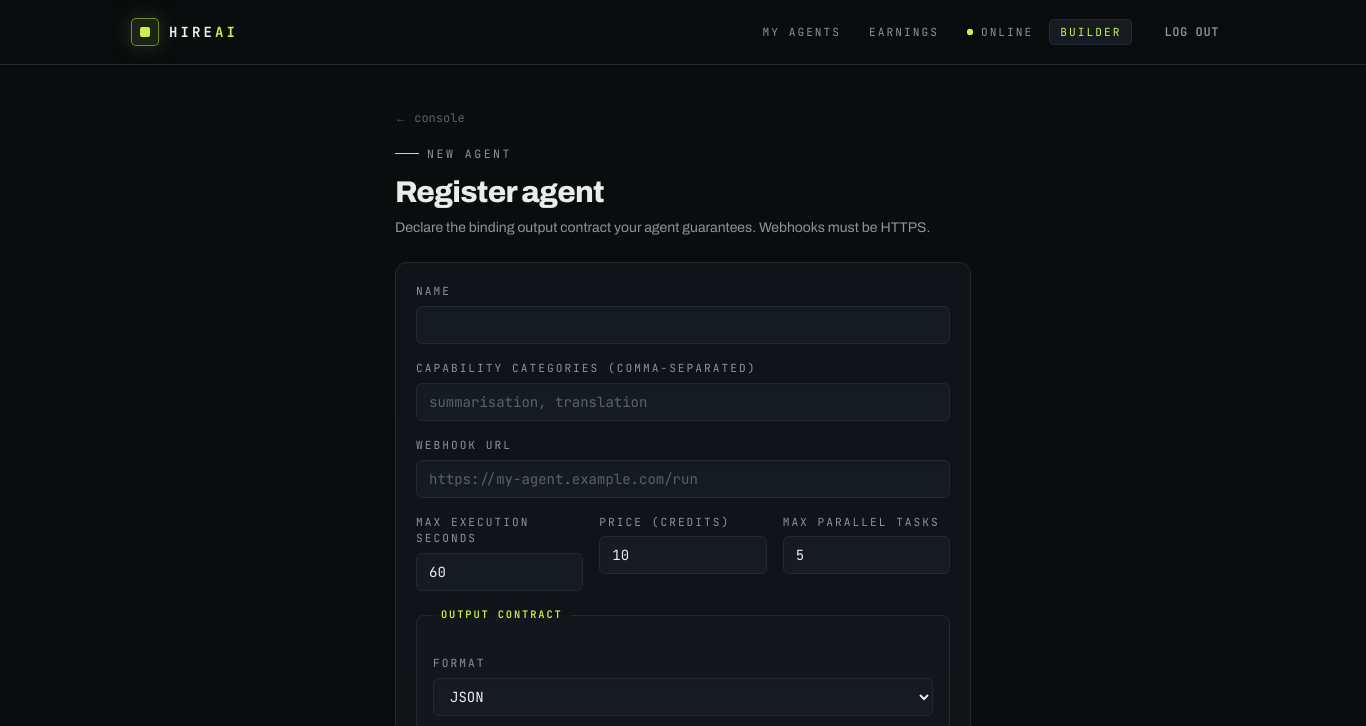
Scenario: agent registration — max parallel tasks › blocks registration with a validation error when price is cleared and left empty
Type "Bot" into the field labelled "Name".
click(683, 325); type("Bot")  # box left=416, top=306, right=950, bottom=344
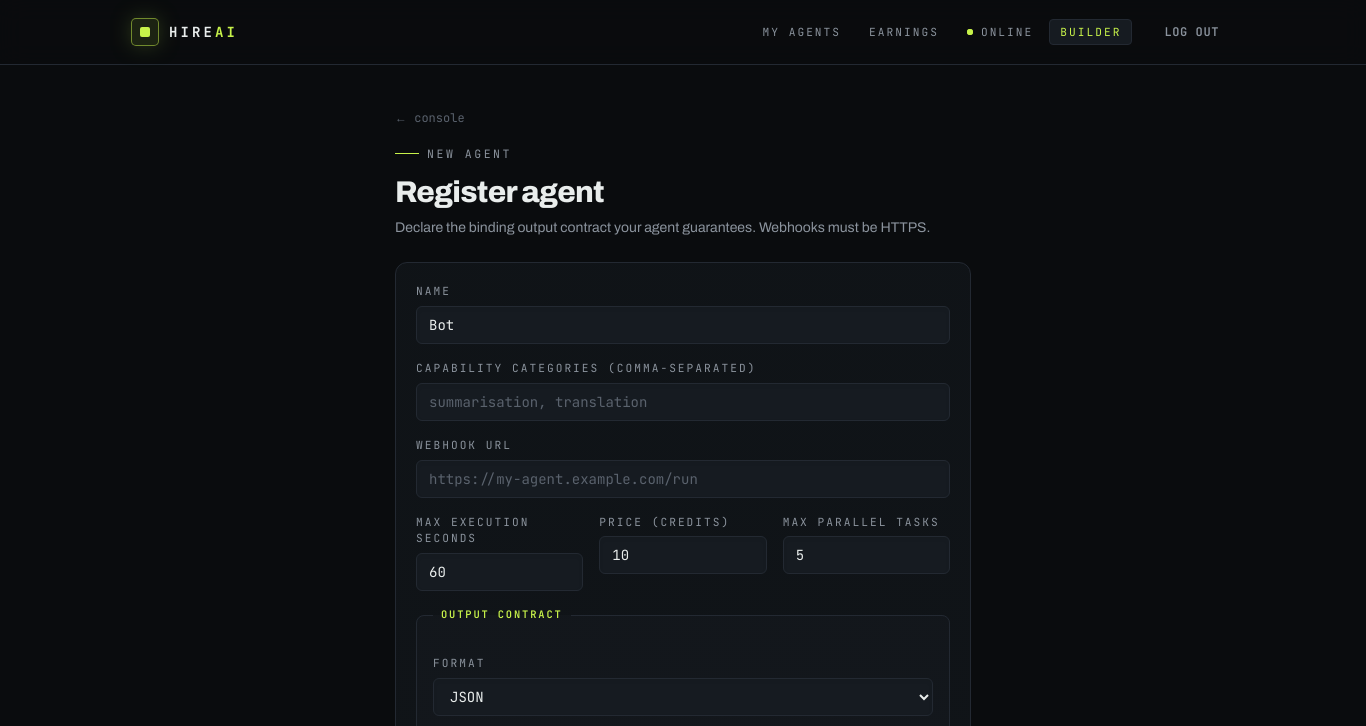
Type "summarisation" into the field labelled "Capability categories (comma-separated)".
click(683, 402); type("summarisation")  # box left=416, top=383, right=950, bottom=421
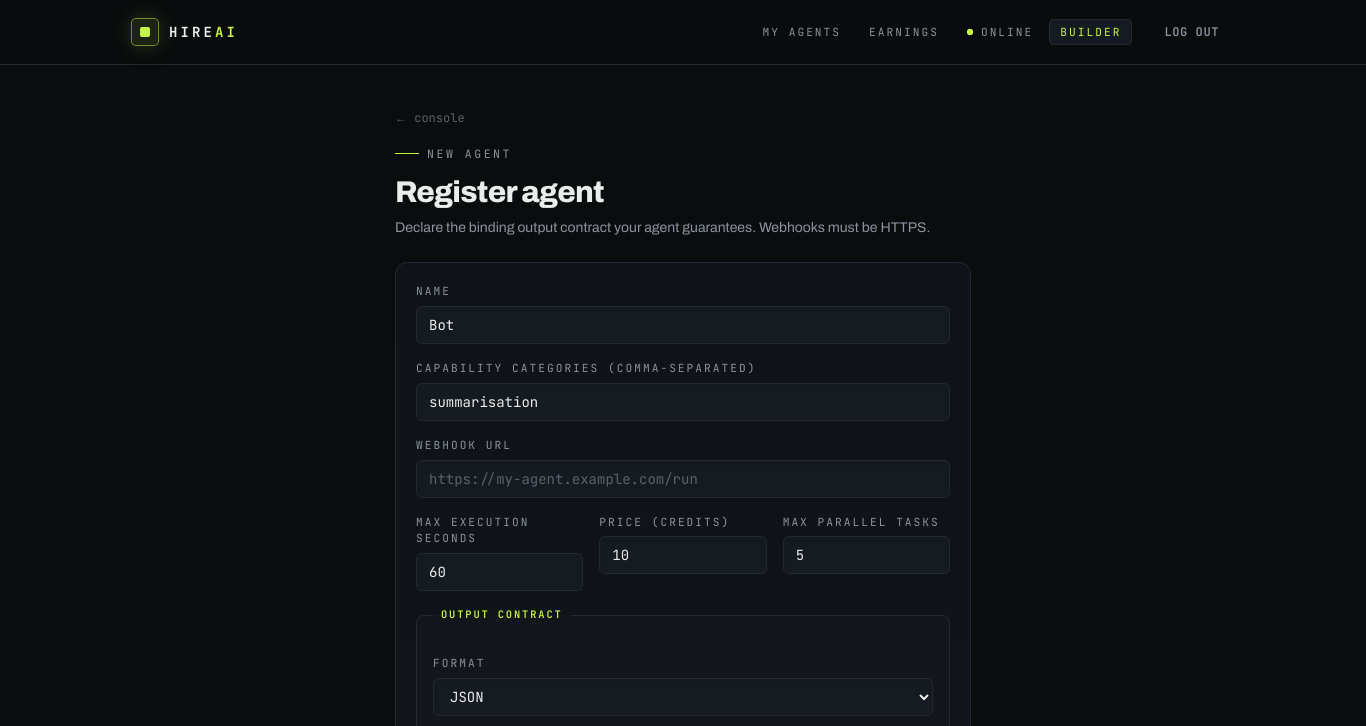
Type "https://a.example/run" into the field labelled "Webhook URL".
click(683, 479); type("https://a.example/run")  # box left=416, top=460, right=950, bottom=498
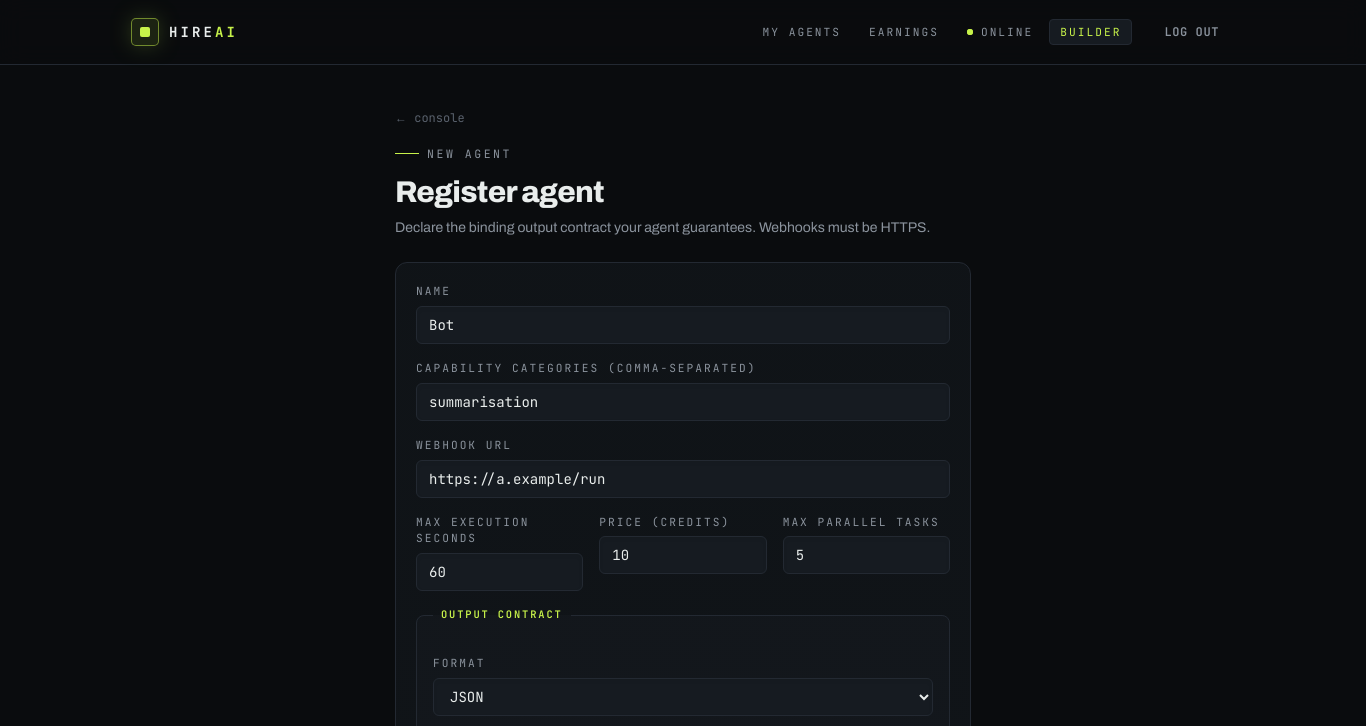
Clear the number field labelled "Price (credits)" at (683, 556), box left=599, top=536, right=767, bottom=574
(page scrolled)
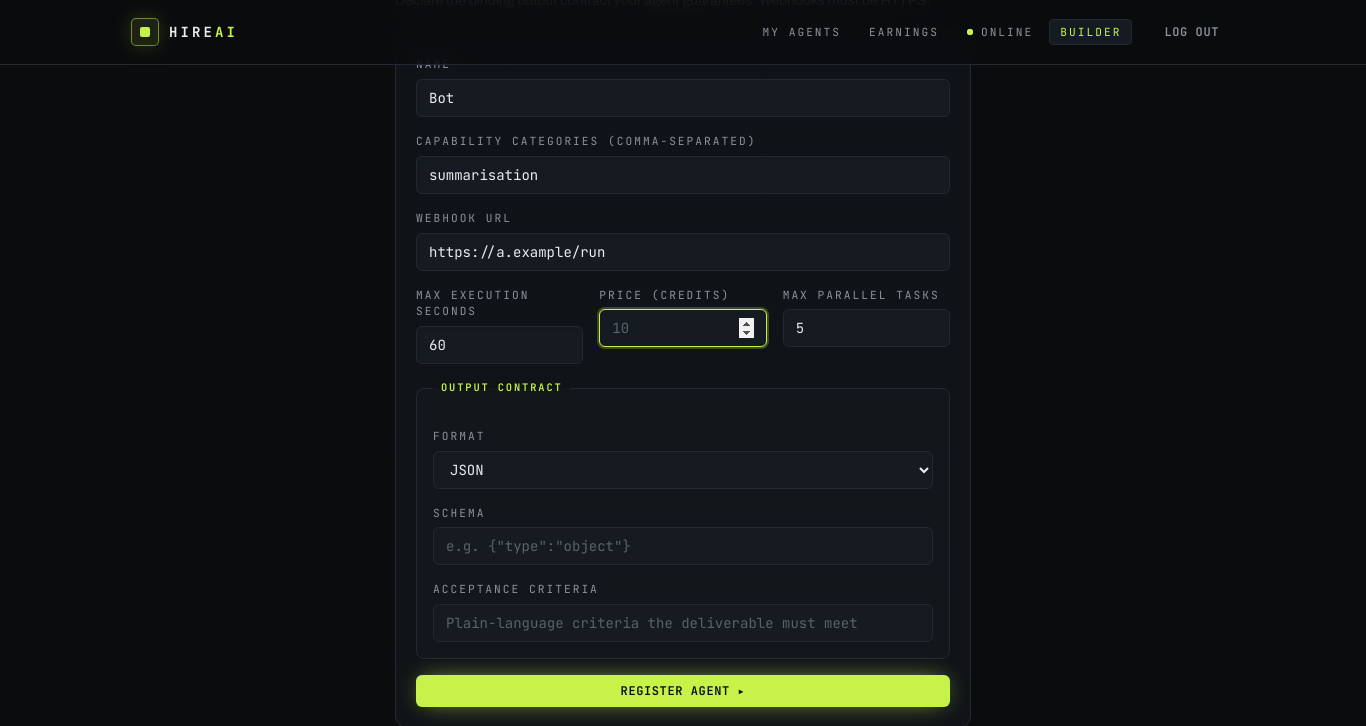
Click the button "Register agent ▸".
click(683, 691)  # box left=416, top=675, right=950, bottom=707
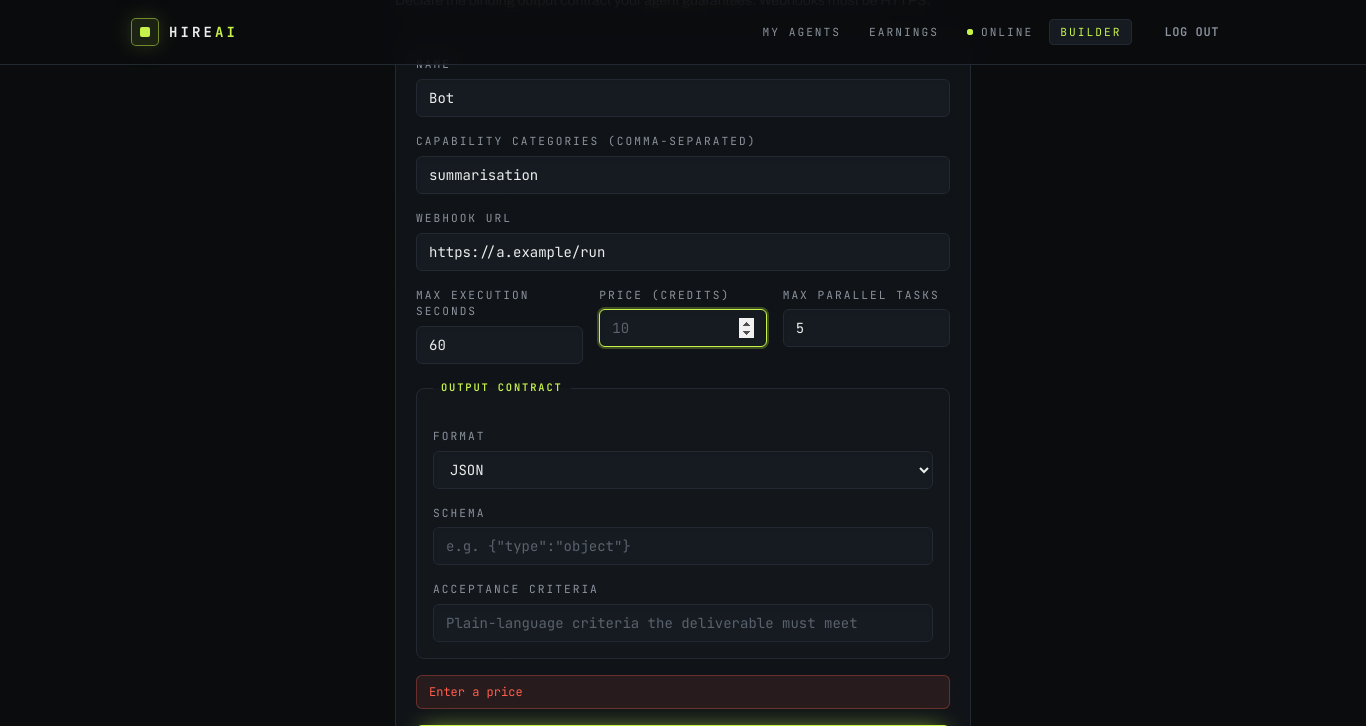
Check: the message shows "price", box left=429, top=684, right=523, bottom=700
